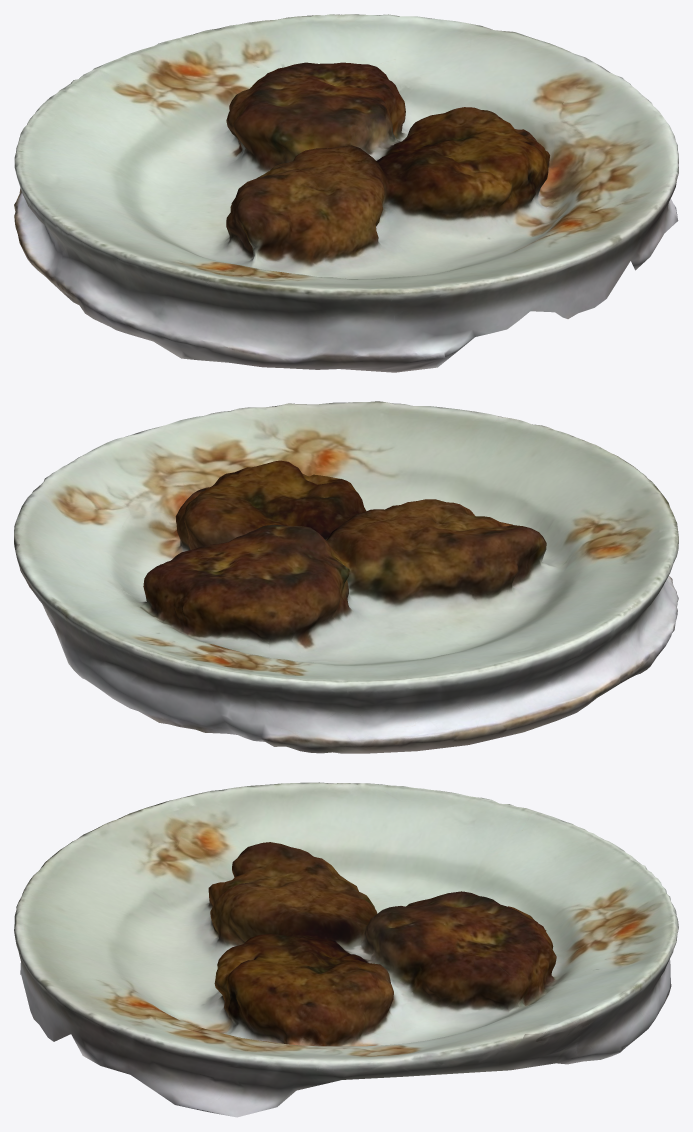
The model's file is shaami.glb.
3 renders of one model, top to bottom at view 1: azimuth 30°, elevation 25°; view 2: azimuth 150°, elevation 25°; view 3: azimuth 270°, elevation 25°, orthographic.
Visible parts, largest first — view 1: 3DModel; view 2: 3DModel; view 3: 3DModel.
Part boxes in pixels (bbox=[...]): 3DModel: bbox=[14, 14, 678, 372]; 3DModel: bbox=[14, 401, 678, 753]; 3DModel: bbox=[14, 782, 678, 1117].
Bounding box in the file's own units: 0.4865 × 0.1058 × 0.4874.
1 material, 1 textured.
